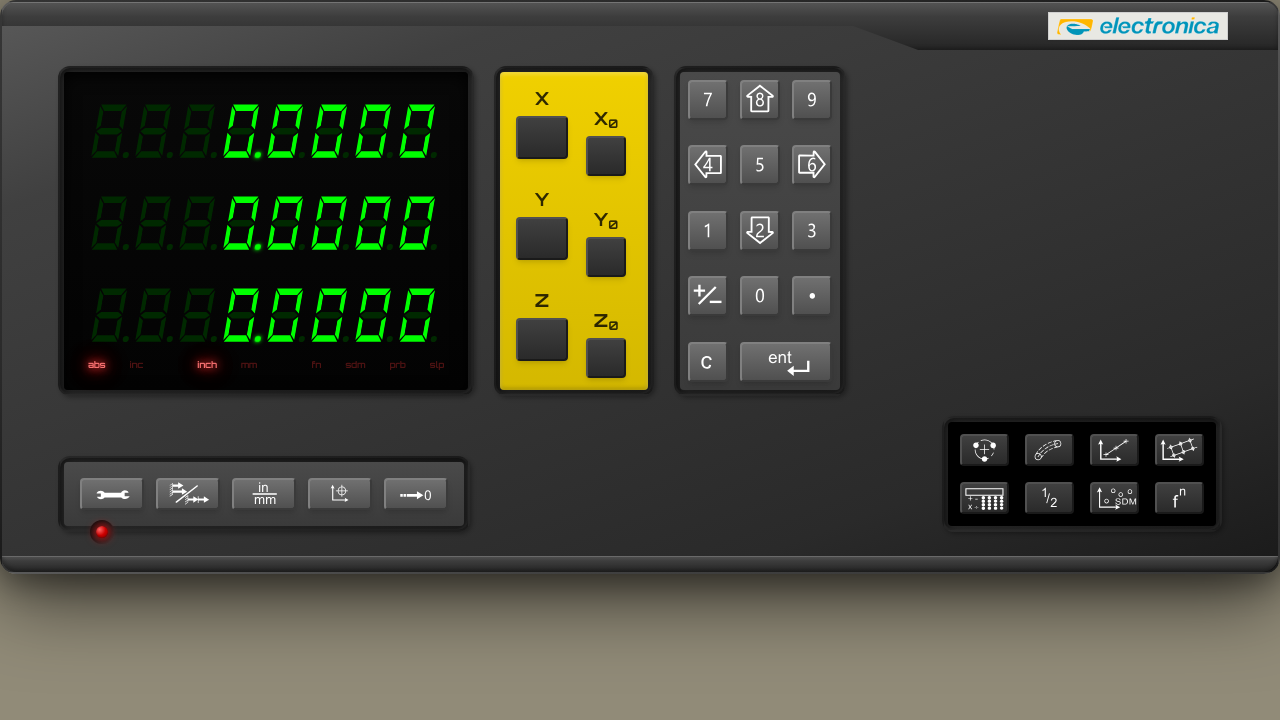
Distance-to-Go Integration › AC 8.1: Pressing Distance-to-Go shows SELECT › should show SELECT on all axes when pressing Distance-to-Go button
# Click Distance-to-Go button
Click the button with test id "btn-distance-to-go": (416, 494) [384, 478, 448, 510]
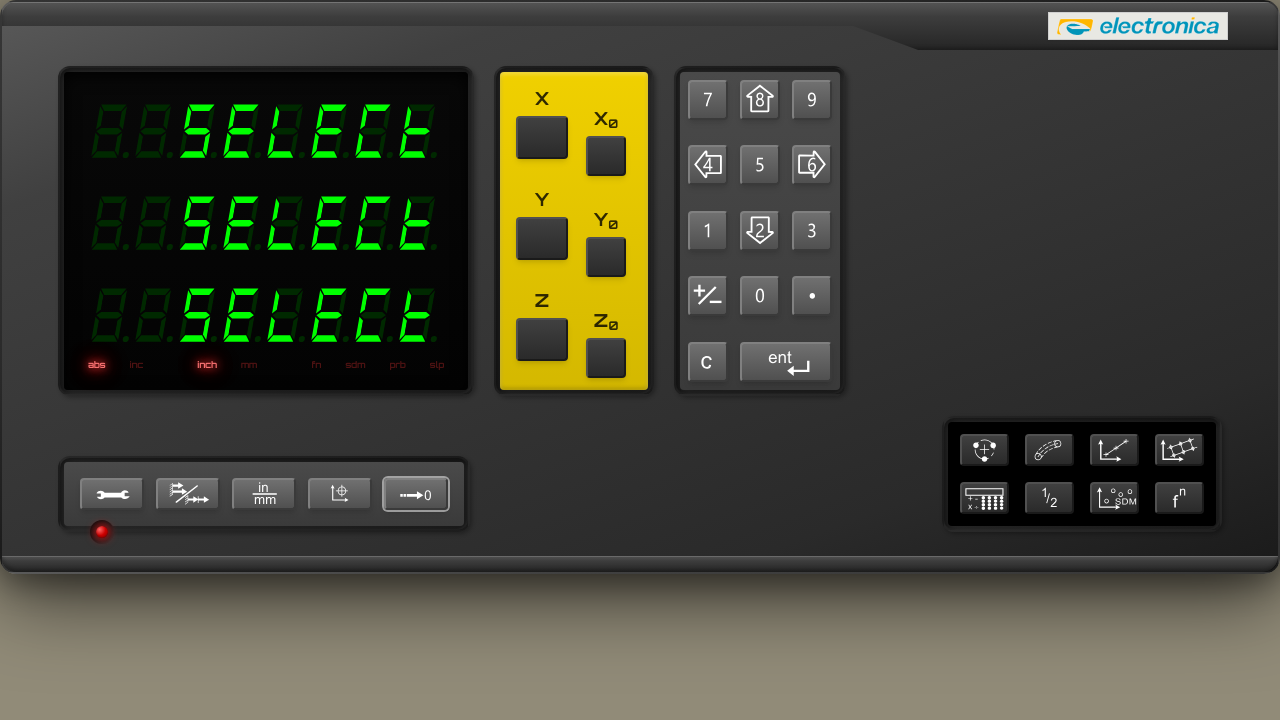
Check: the cell with test id "axis-value-x" reads "SELECt", box [121, 116, 191, 136]
